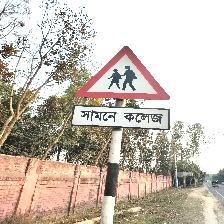College-in-front: (60, 35, 185, 146)
